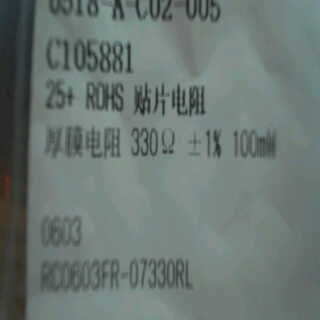330R: (126, 124, 180, 159)
